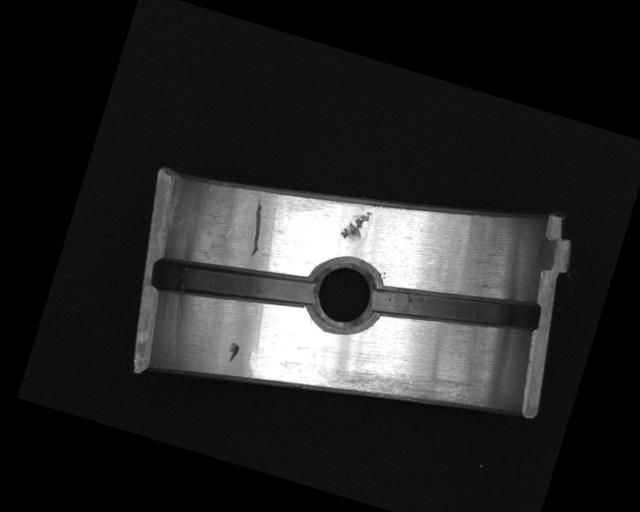bruise: (338, 205, 375, 246), (224, 340, 241, 364)
gap: (368, 258, 543, 360), (150, 237, 317, 331)
hole: (298, 252, 388, 344)
nick: (241, 195, 272, 258)
scratch: (321, 343, 469, 427)
